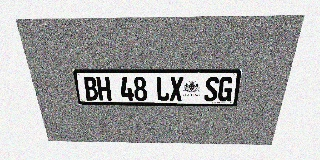4: (119, 77, 134, 101)
8: (133, 77, 147, 101)
B: (83, 77, 99, 101)
G: (217, 77, 234, 102)
H: (96, 77, 112, 101)
L: (156, 77, 169, 101)
S: (204, 77, 220, 101)
X: (170, 77, 183, 101)
